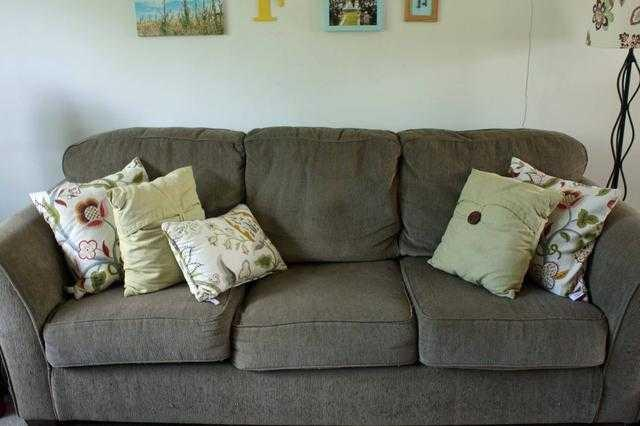pillow: (425, 167, 563, 299), (27, 156, 149, 300), (506, 155, 622, 301), (104, 164, 206, 296), (160, 202, 288, 302)
